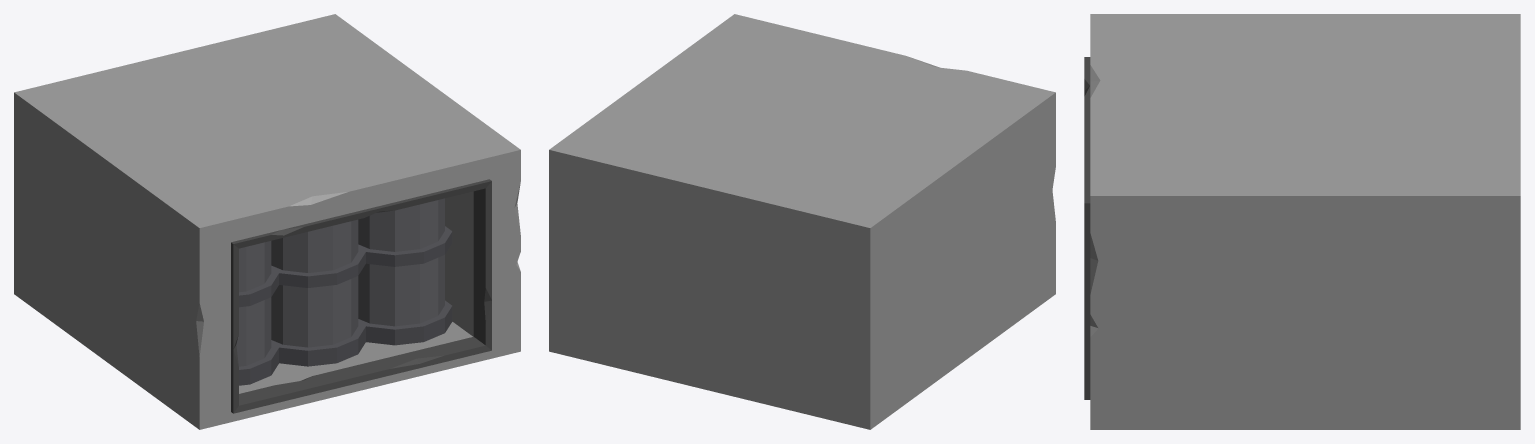
File: SM_Bld_Section_Wall_03.fbx
3 renders of one model, left to right at view 1: azimuth 30°, elevation 25°; view 2: azimuth 150°, elevation 25°; view 3: azimuth 270°, elevation 25°, orthographic. The views are drawn at different scales.
Visible parts, largest first — view 1: SM_Bld_Section_Wall_03; view 2: SM_Bld_Section_Wall_03; view 3: SM_Bld_Section_Wall_03.
Part boxes in pixels (box(x1,y1,x2,y2)): SM_Bld_Section_Wall_03: box(14, 14, 520, 429); SM_Bld_Section_Wall_03: box(549, 14, 1055, 429); SM_Bld_Section_Wall_03: box(1084, 14, 1520, 429).
Size of the model in its own units: 500 by 300 by 507.
